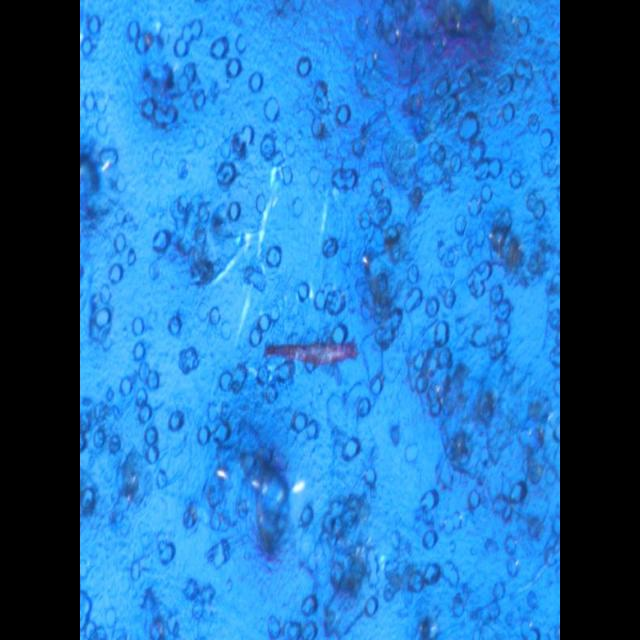Fibre: (253, 315, 367, 381)
